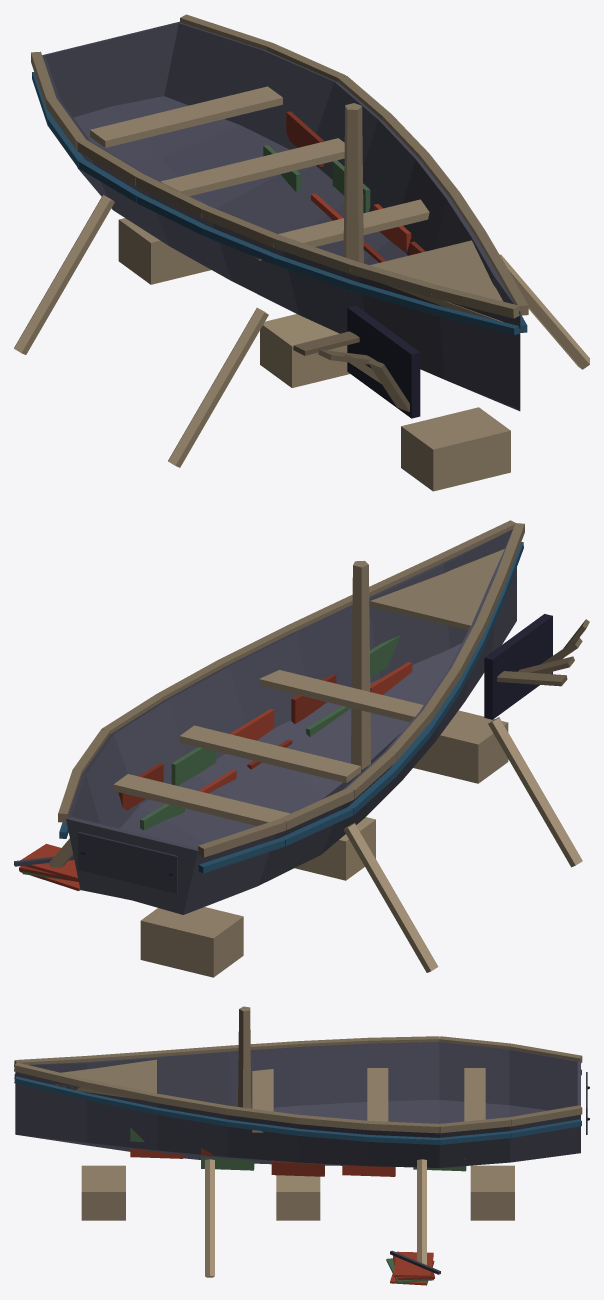
File: gannet_hulk_bare.glb
3 renders of one model, top to bottom at view 1: azimuth 30°, elevation 25°; view 2: azimuth 150°, elevation 25°; view 3: azimuth 270°, elevation 25°, orthographic. The views are drawn at different scales.
Visible parts, largest first — view 1: ink_l20, driftwood_d25, driftwood_d35, driftwood_d30, driftwood_d15, tide_d35, driftwood_d20, ink_l2, driftwood_d45, coal_d30, moss_d25, coal_d15; view 2: ink_l20, driftwood_d25, driftwood_d35, driftwood_d30, driftwood_d15, tide_d35, ink_l14, ink_l2, moss_d25, coal_d15, driftwood_d20, driftwood_d45 (+1 smaller); view 3: ink_l20, driftwood_d35, driftwood_d25, tide_d35, driftwood_d30, driftwood_d15, driftwood_d20, coal_d15, moss_d25, coal_d30.
Boxes of the visible parts, left/top/right/bottom form: ink_l20: left=42, top=21, right=520, bottom=411; driftwood_d25: left=90, top=86, right=510, bottom=491; driftwood_d35: left=31, top=14, right=528, bottom=318; driftwood_d30: left=343, top=103, right=520, bottom=334; driftwood_d15: left=14, top=195, right=589, bottom=467; tide_d35: left=32, top=72, right=527, bottom=335; driftwood_d20: left=260, top=314, right=349, bottom=387; ink_l2: left=347, top=305, right=420, bottom=418; driftwood_d45: left=293, top=331, right=409, bottom=411; coal_d30: left=286, top=111, right=425, bottom=262; moss_d25: left=263, top=145, right=370, bottom=212; coal_d15: left=311, top=193, right=411, bottom=253; ink_l20: left=66, top=529, right=516, bottom=914; driftwood_d25: left=113, top=670, right=508, bottom=977; driftwood_d35: left=58, top=520, right=524, bottom=857; driftwood_d30: left=351, top=549, right=504, bottom=770; driftwood_d15: left=48, top=717, right=582, bottom=972; tide_d35: left=59, top=542, right=523, bottom=873; ink_l14: left=78, top=832, right=177, bottom=893; ink_l2: left=484, top=614, right=552, bottom=719; moss_d25: left=22, top=635, right=400, bottom=880; coal_d15: left=19, top=662, right=412, bottom=890; driftwood_d20: left=294, top=817, right=375, bottom=880; driftwood_d45: left=497, top=619, right=589, bottom=686; ink_l20: left=15, top=1042, right=580, bottom=1167; driftwood_d35: left=14, top=1036, right=582, bottom=1133; driftwood_d25: left=81, top=1068, right=514, bottom=1220; tide_d35: left=14, top=1069, right=581, bottom=1144; driftwood_d30: left=45, top=1006, right=251, bottom=1108; driftwood_d15: left=205, top=1159, right=426, bottom=1277; driftwood_d20: left=276, top=1175, right=320, bottom=1220; coal_d15: left=130, top=1148, right=434, bottom=1285; moss_d25: left=130, top=1127, right=466, bottom=1283; coal_d30: left=201, top=1148, right=465, bottom=1280.
Size of the model in its own units: 4 by 2.51 by 6.52.
